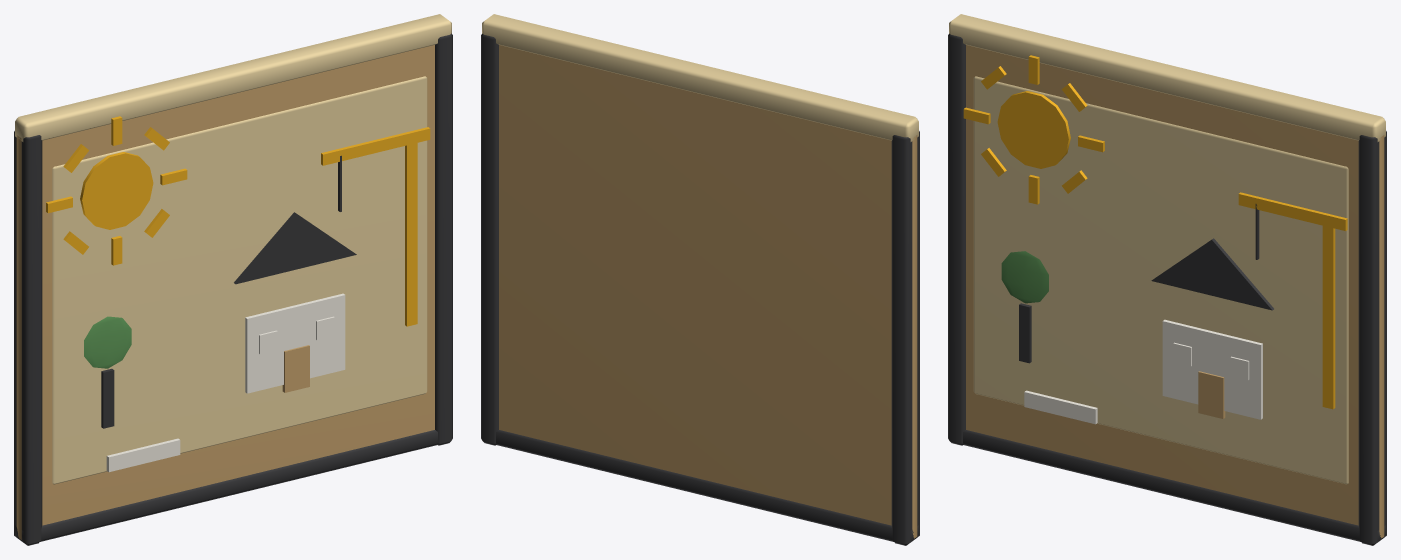
The model's file is tapume_panel.glb.
3 views of the same model, side by side, from view 1: azimuth 30°, elevation 25°; view 2: azimuth 150°, elevation 25°; view 3: azimuth 330°, elevation 25° (orthographic).
Visible parts, largest first — view 1: tapume_panel; view 2: tapume_panel; view 3: tapume_panel.
Boxes of the visible parts, x1,y1,x2,y2 form: tapume_panel: (14,14,452,545); tapume_panel: (481,14,919,545); tapume_panel: (948,14,1386,545).
Size of the model in its own units: 2.4 by 2.26 by 0.17.
